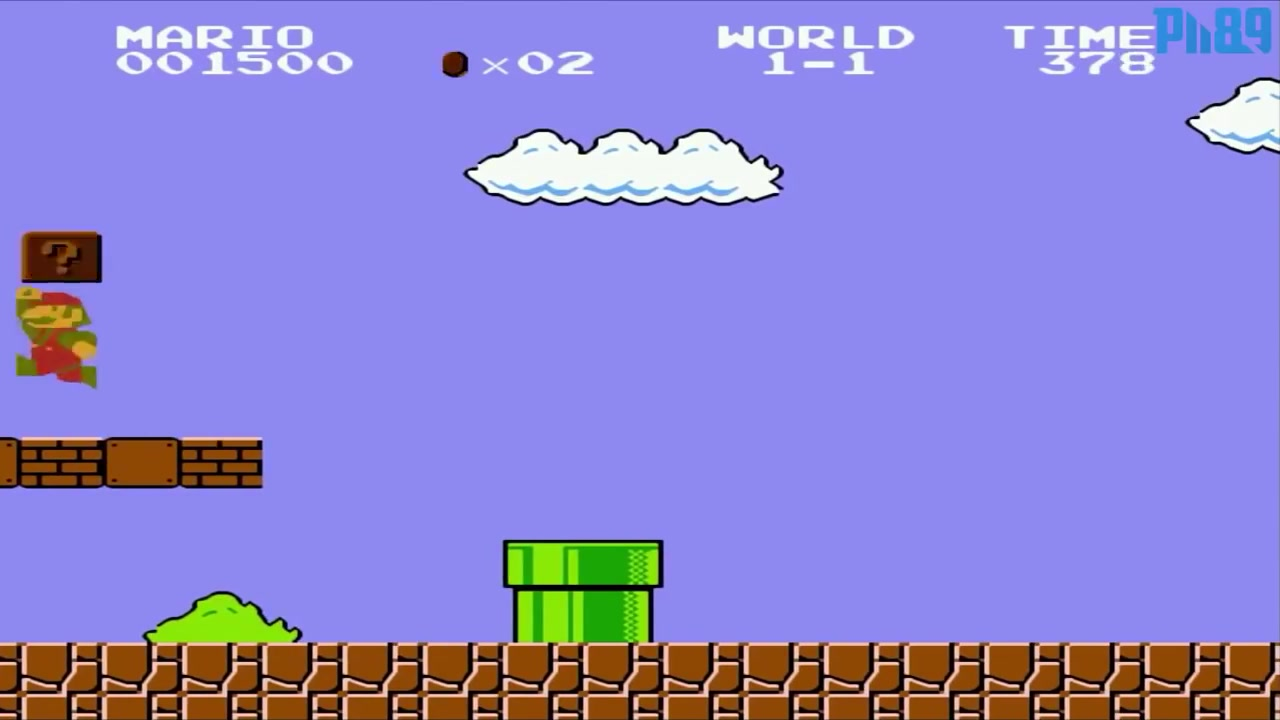mario: (5, 281, 108, 396)
